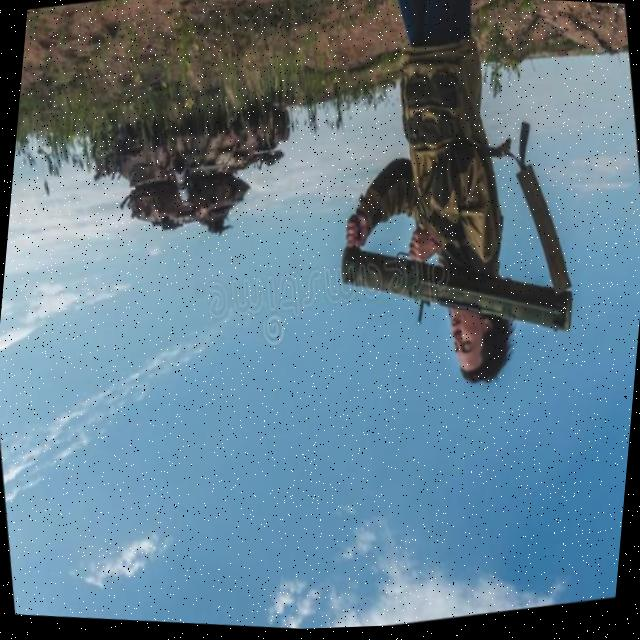rocket: (328, 203, 588, 389)
